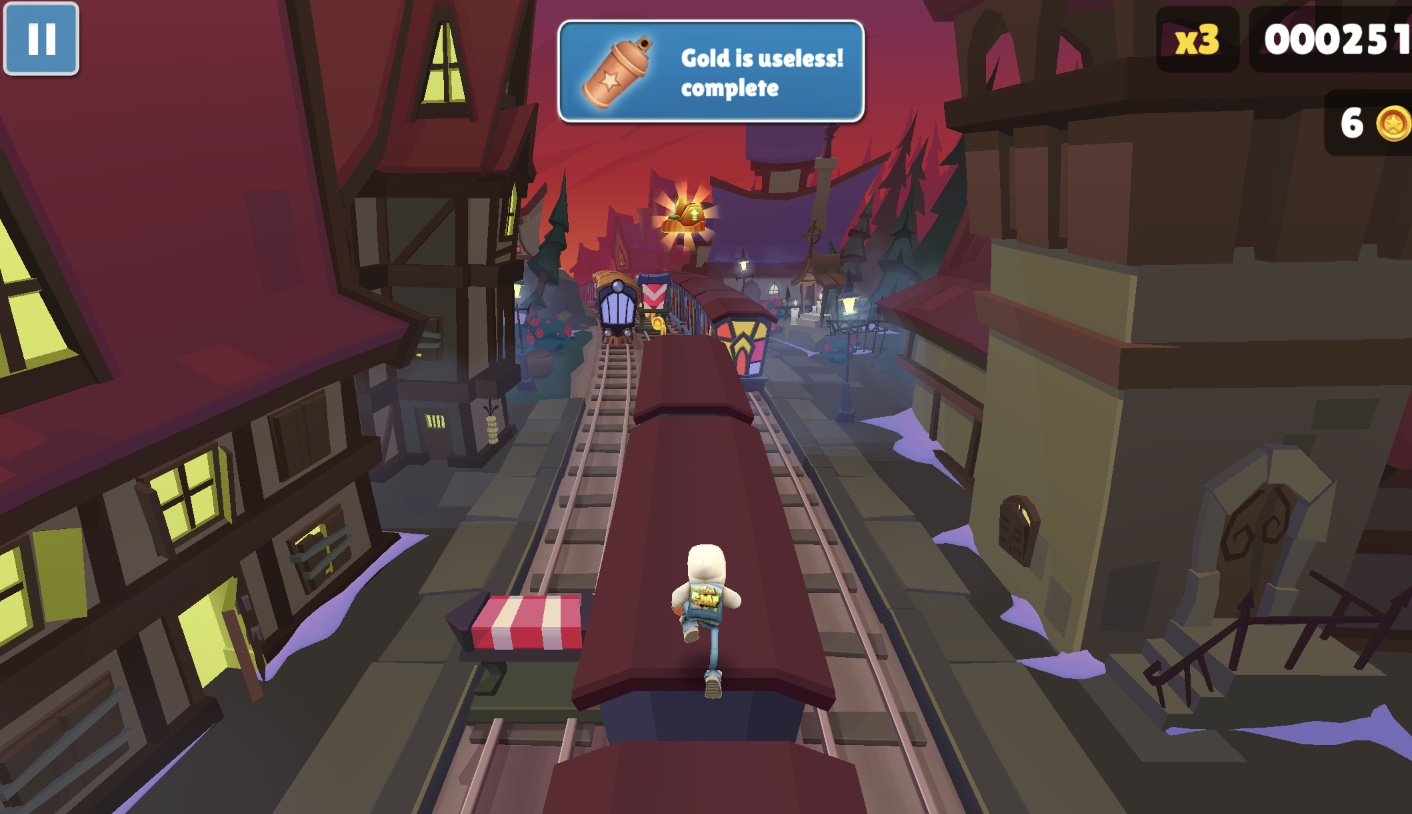ground_barrier: (455, 596, 601, 733)
overhead_barrier: (635, 272, 671, 328)
train: (545, 336, 867, 814), (668, 273, 780, 396), (589, 271, 640, 346)
